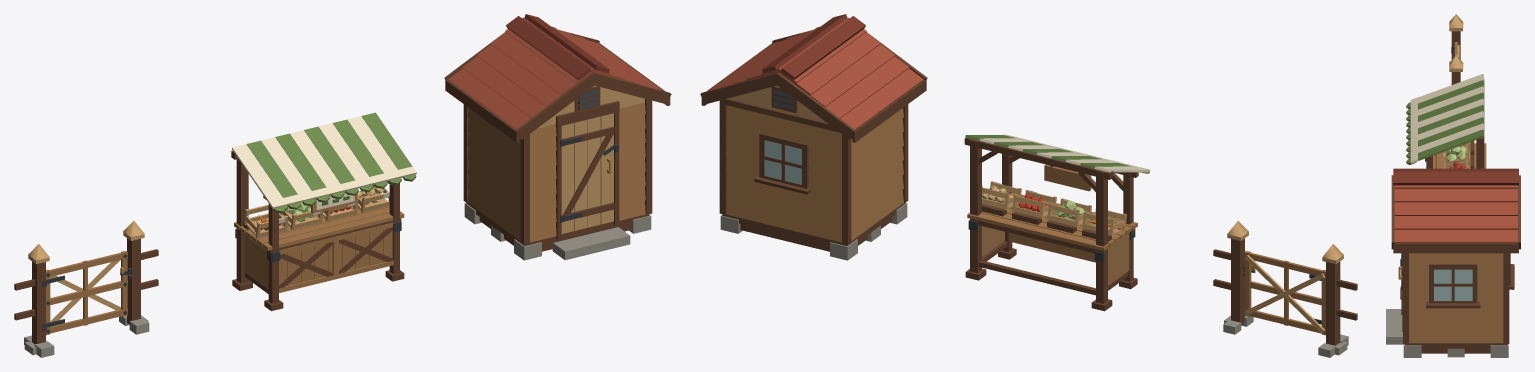
Rendered from cozy-farm-set-vol1.glb.
3 views of the same model, side by side, from view 1: azimuth 30°, elevation 25°; view 2: azimuth 150°, elevation 25°; view 3: azimuth 270°, elevation 25° (orthographic). The views are drawn at different scales.
Visible parts, largest first — view 1: wall_lap_siding, roof_tile_courses, awning_canvas_cream, awning_canvas_green, door_planks, counter_front_apron, frame_timber, foundation_piers, corner_and_frieze_boards, gate_frame, roof_ridge_cap, roof_barge_boards (+16 smaller); view 2: wall_lap_siding, roof_tile_courses, frame_timber, corner_and_frieze_boards, roof_ridge_cap, gate_frame, roof_barge_boards, post_timbers, counter_deck_planks, counter_side_panels, window_frame, window_glass (+19 smaller); view 3: roof_tile_courses, wall_lap_siding, awning_canvas_green, awning_canvas_cream, roof_ridge_cap, roof_eave_fascia, foundation_piers, window_frame, corner_and_frieze_boards, window_glass, awning_valance_band, sill_beam (+12 smaller).
Boxes of the visible parts, x1=… form: wall_lap_siding: x1=468, y1=102, x2=645, y2=242; roof_tile_courses: x1=448, y1=17, x2=662, y2=129; awning_canvas_cream: x1=232, y1=116, x2=397, y2=202; awning_canvas_green: x1=246, y1=112, x2=412, y2=197; door_planks: x1=561, y1=113, x2=613, y2=233; counter_front_apron: x1=279, y1=222, x2=393, y2=292; frame_timber: x1=231, y1=151, x2=404, y2=311; foundation_piers: x1=464, y1=203, x2=651, y2=260; corner_and_frieze_boards: x1=463, y1=99, x2=652, y2=244; gate_frame: x1=46, y1=251, x2=127, y2=335; roof_ridge_cap: x1=506, y1=14, x2=609, y2=80; roof_barge_boards: x1=444, y1=32, x2=671, y2=139; wall_lap_siding: x1=726, y1=105, x2=903, y2=242; roof_tile_courses: x1=709, y1=17, x2=923, y2=129; frame_timber: x1=964, y1=137, x2=1138, y2=311; corner_and_frieze_boards: x1=719, y1=98, x2=908, y2=244; roof_ridge_cap: x1=762, y1=14, x2=865, y2=80; gate_frame: x1=1244, y1=251, x2=1325, y2=335; roof_barge_boards: x1=700, y1=32, x2=927, y2=139; post_timbers: x1=1231, y1=238, x2=1340, y2=345; counter_deck_planks: x1=967, y1=192, x2=1137, y2=250; counter_side_panels: x1=982, y1=226, x2=1129, y2=285; window_frame: x1=754, y1=133, x2=811, y2=194; window_glass: x1=764, y1=140, x2=801, y2=184; roof_tile_courses: x1=1394, y1=185, x2=1517, y2=242; wall_lap_siding: x1=1409, y1=253, x2=1503, y2=343; awning_canvas_green: x1=1418, y1=80, x2=1483, y2=160; awning_canvas_cream: x1=1418, y1=74, x2=1483, y2=152; roof_ridge_cap: x1=1393, y1=168, x2=1518, y2=185; roof_eave_fascia: x1=1393, y1=243, x2=1518, y2=253; foundation_piers: x1=1386, y1=309, x2=1508, y2=357; window_frame: x1=1426, y1=253, x2=1514, y2=308; corner_and_frieze_boards: x1=1403, y1=253, x2=1509, y2=343; window_glass: x1=1434, y1=269, x2=1472, y2=300; awning_valance_band: x1=1410, y1=97, x2=1418, y2=163; sill_beam: x1=1405, y1=343, x2=1507, y2=348.
Bounding box in the file's own units: 10.43 × 2.93 × 2.23.
